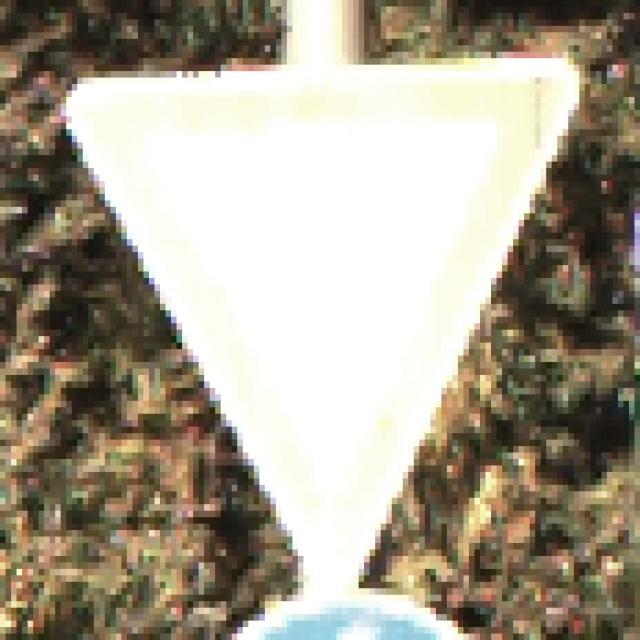Give Way: (62, 53, 586, 589)
